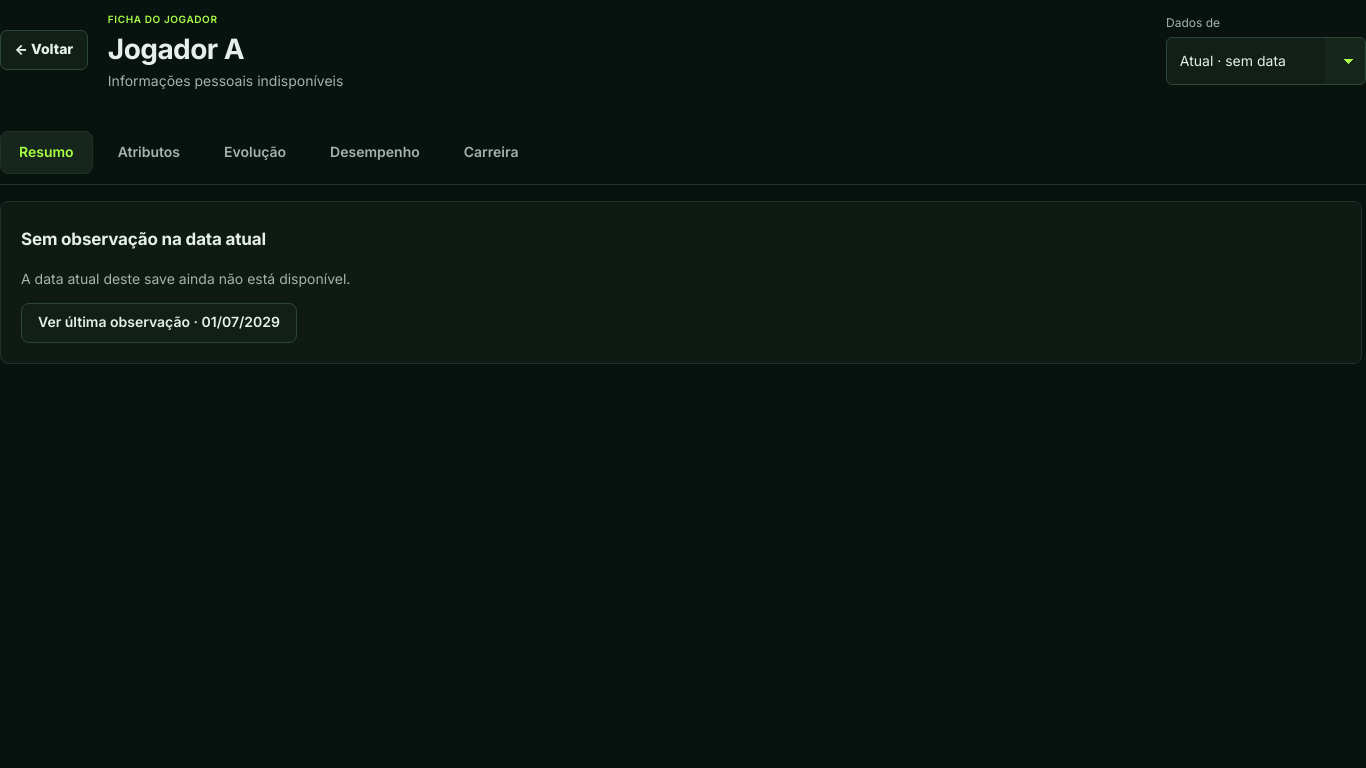
Test: PlayerPage save isolation › integra a área Evolução sem fabricar delta com um único snapshot
The width and height of the screenshot is (1366, 768).
Expected: the heading "Jogador A" is shown, [108,32,244,66]
Click the button "Evolução" at (255, 152), box [205,131,305,174]
(page scrolled)
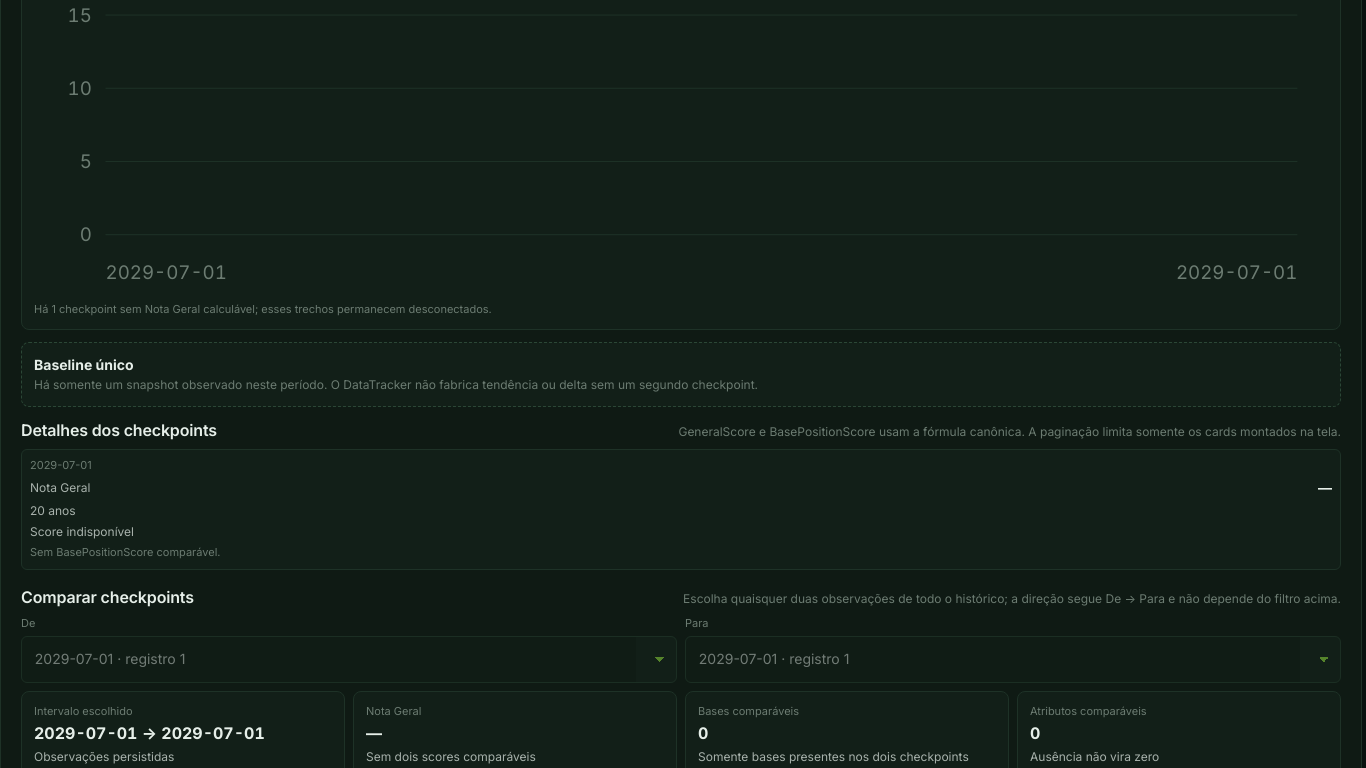
Expected: the text "Baseline único" is shown, [34,356,134,373]
Expected: the text "não fabrica tendência ou delta" is shown, [34,377,758,392]
